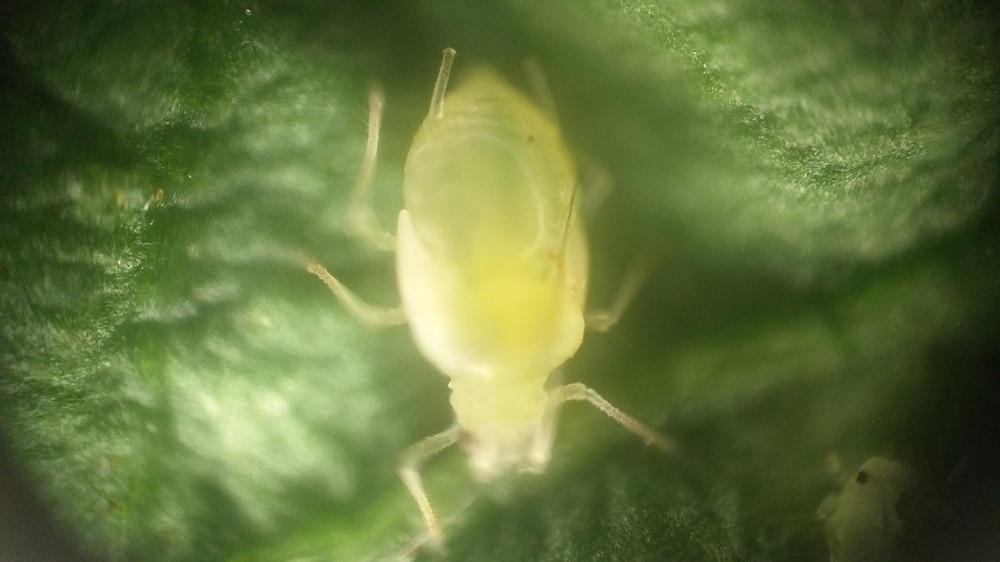Pulgon: (278, 47, 723, 554)
